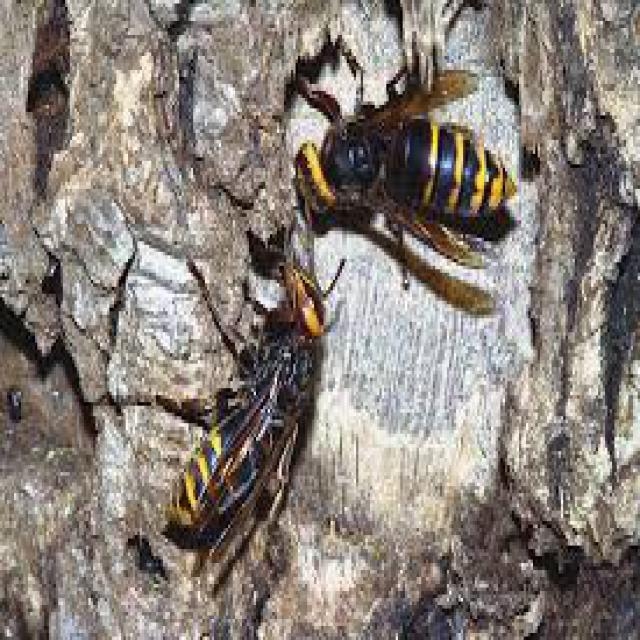Vespa Crabro: (123, 215, 352, 577), (293, 55, 525, 327)
